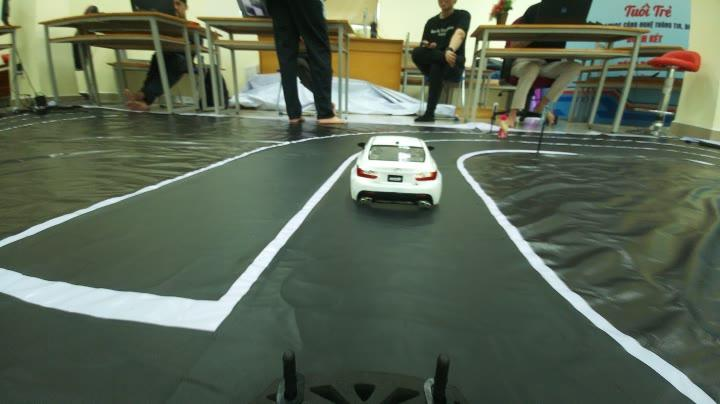car: (348, 124, 442, 210)
